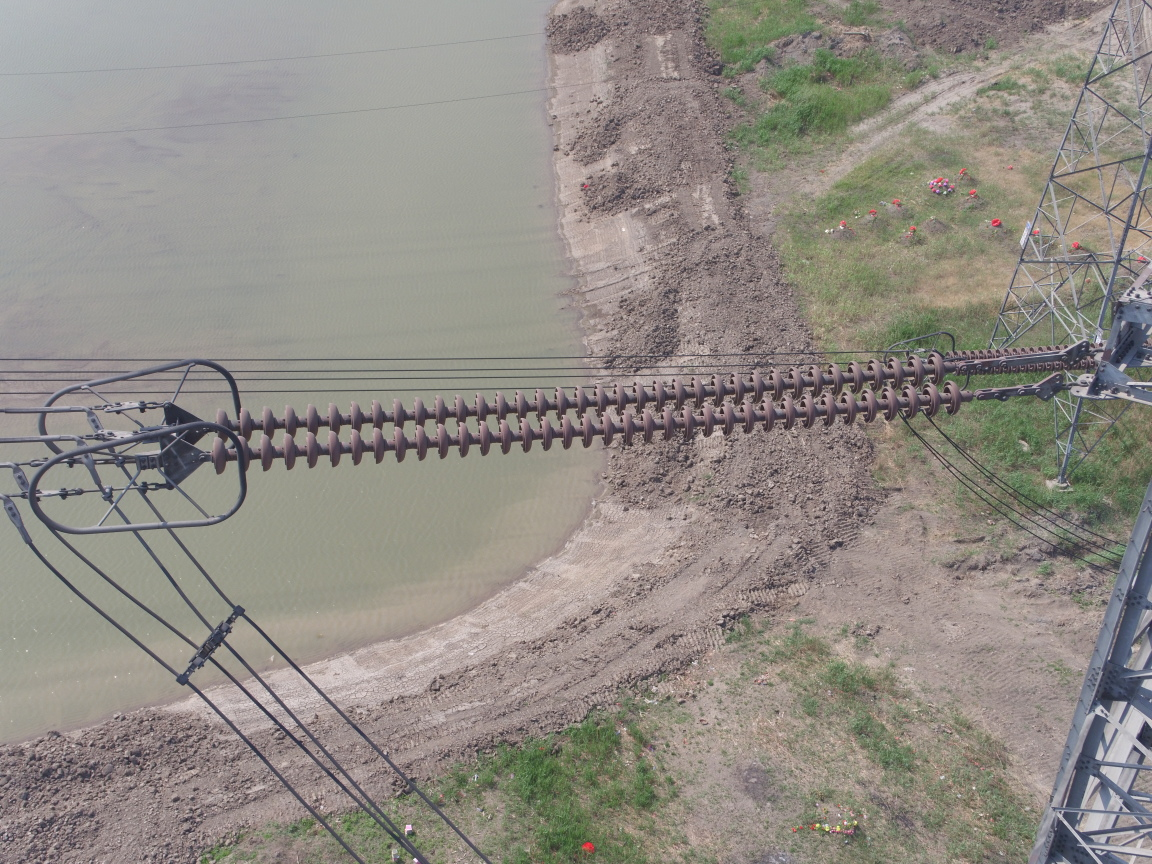insulator: (181, 347, 1005, 480)
